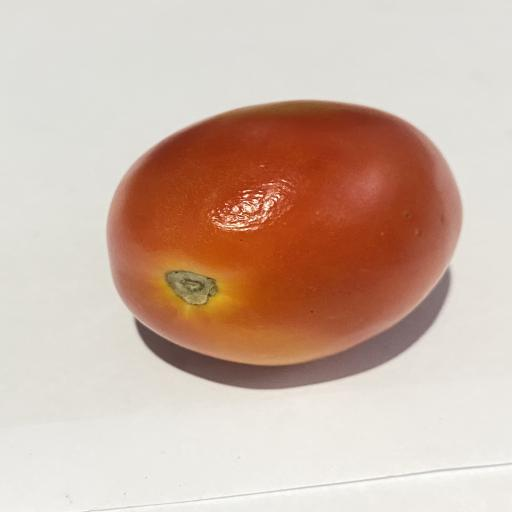overipe: (108, 101, 462, 365)
